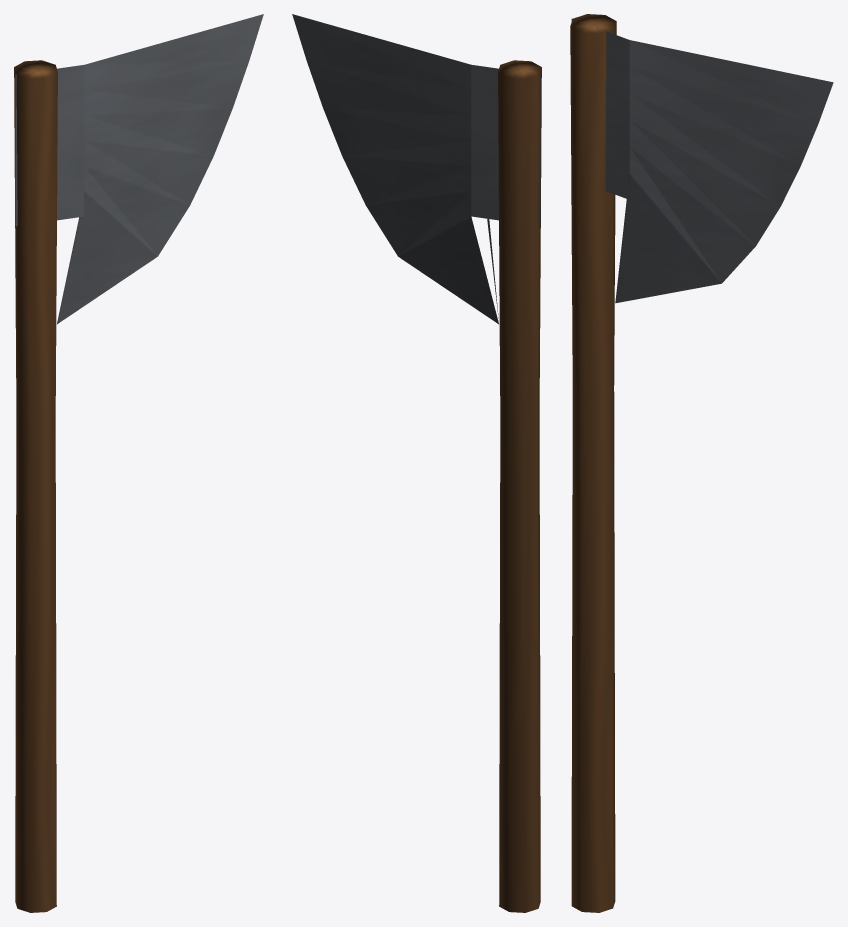
The model's file is hache-viking.glb.
The picture shows the model from 3 angles, left to right: view 1: azimuth 30°, elevation 25°; view 2: azimuth 150°, elevation 25°; view 3: azimuth 330°, elevation 25°; orthographic projection. The views are drawn at different scales.
Parts seen in each view (by area): view 1: hache-viking; view 2: hache-viking; view 3: hache-viking.
Part boxes in pixels (x1=…): hache-viking: x1=14, y1=14, x2=263, y2=912; hache-viking: x1=292, y1=14, x2=541, y2=912; hache-viking: x1=570, y1=14, x2=833, y2=912.
Size of the model in its own units: 0.24 by 0.77 by 0.038.
Materials: 1 (1 with a texture image).
